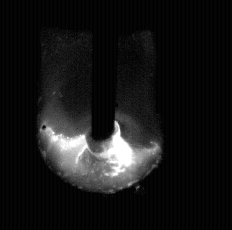arame: (92, 0, 115, 141)
poca: (38, 0, 162, 230)
